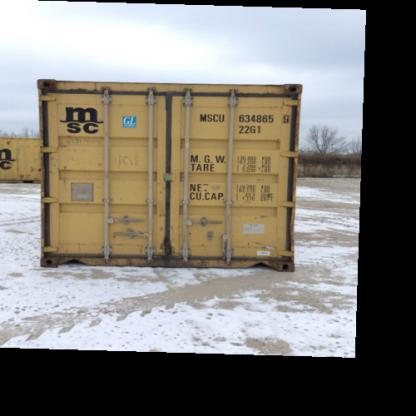Damage: (177, 250, 292, 276), (42, 248, 155, 271), (37, 78, 108, 100), (156, 206, 179, 268), (240, 84, 305, 104)
